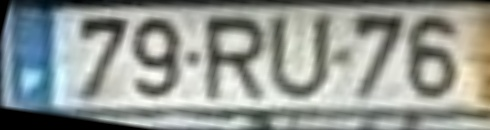6: (407, 14, 465, 107)
7: (353, 14, 411, 106), (78, 19, 135, 108)
9: (130, 16, 187, 107)
R: (203, 16, 269, 106)
U: (269, 14, 337, 107)
